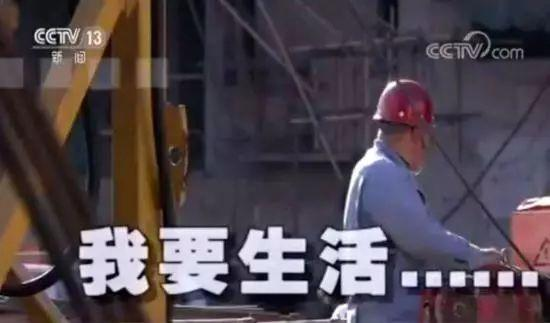helmet: (376, 81, 439, 127)
